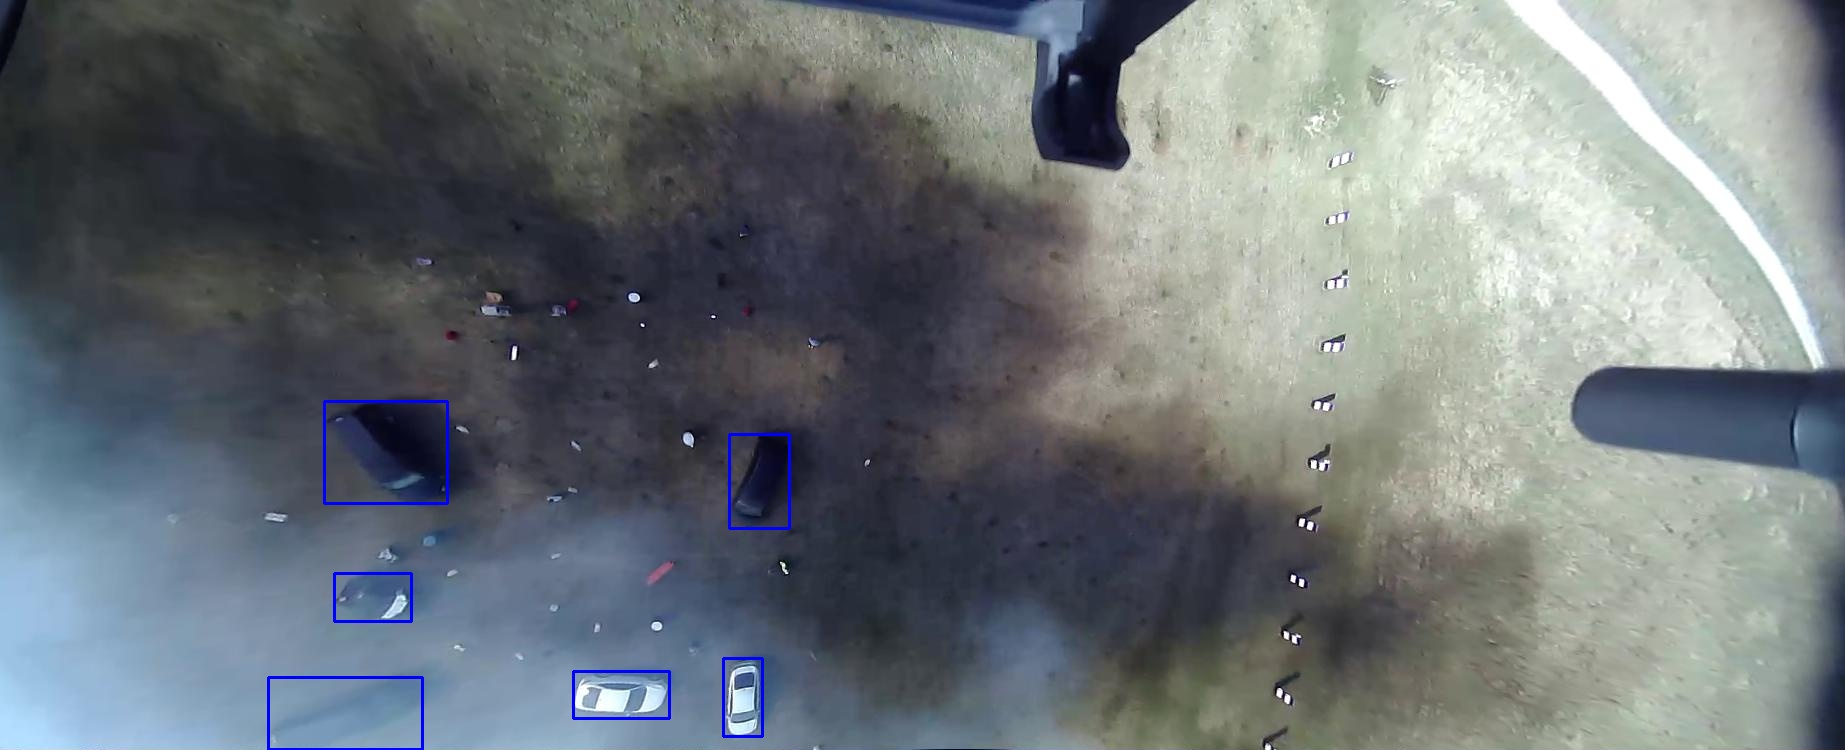vehicle: (401, 324, 502, 447), (677, 268, 750, 422), (671, 573, 718, 669), (573, 334, 621, 411), (658, 723, 737, 750), (434, 729, 528, 750)
